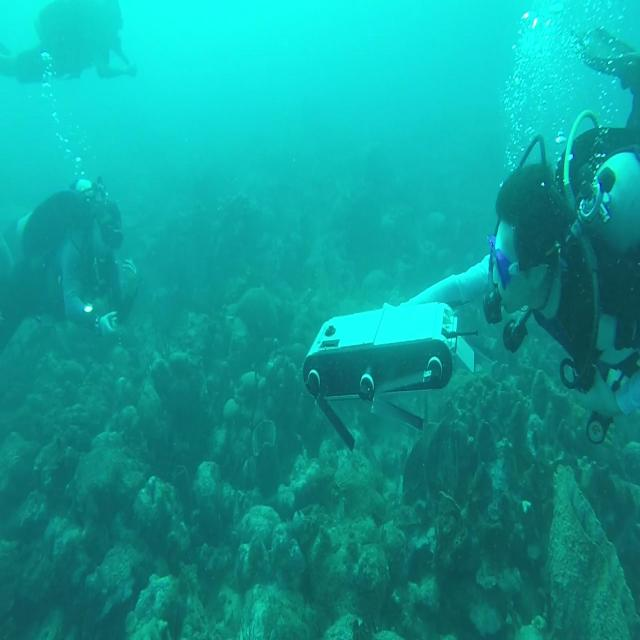human: (416, 23, 640, 410), (1, 174, 136, 351), (1, 1, 150, 93)
